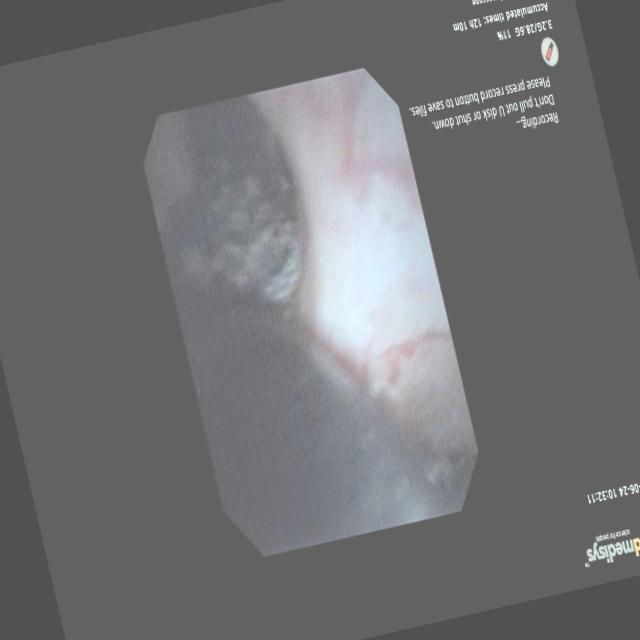stone-new: (172, 277, 460, 555), (171, 97, 301, 305)
